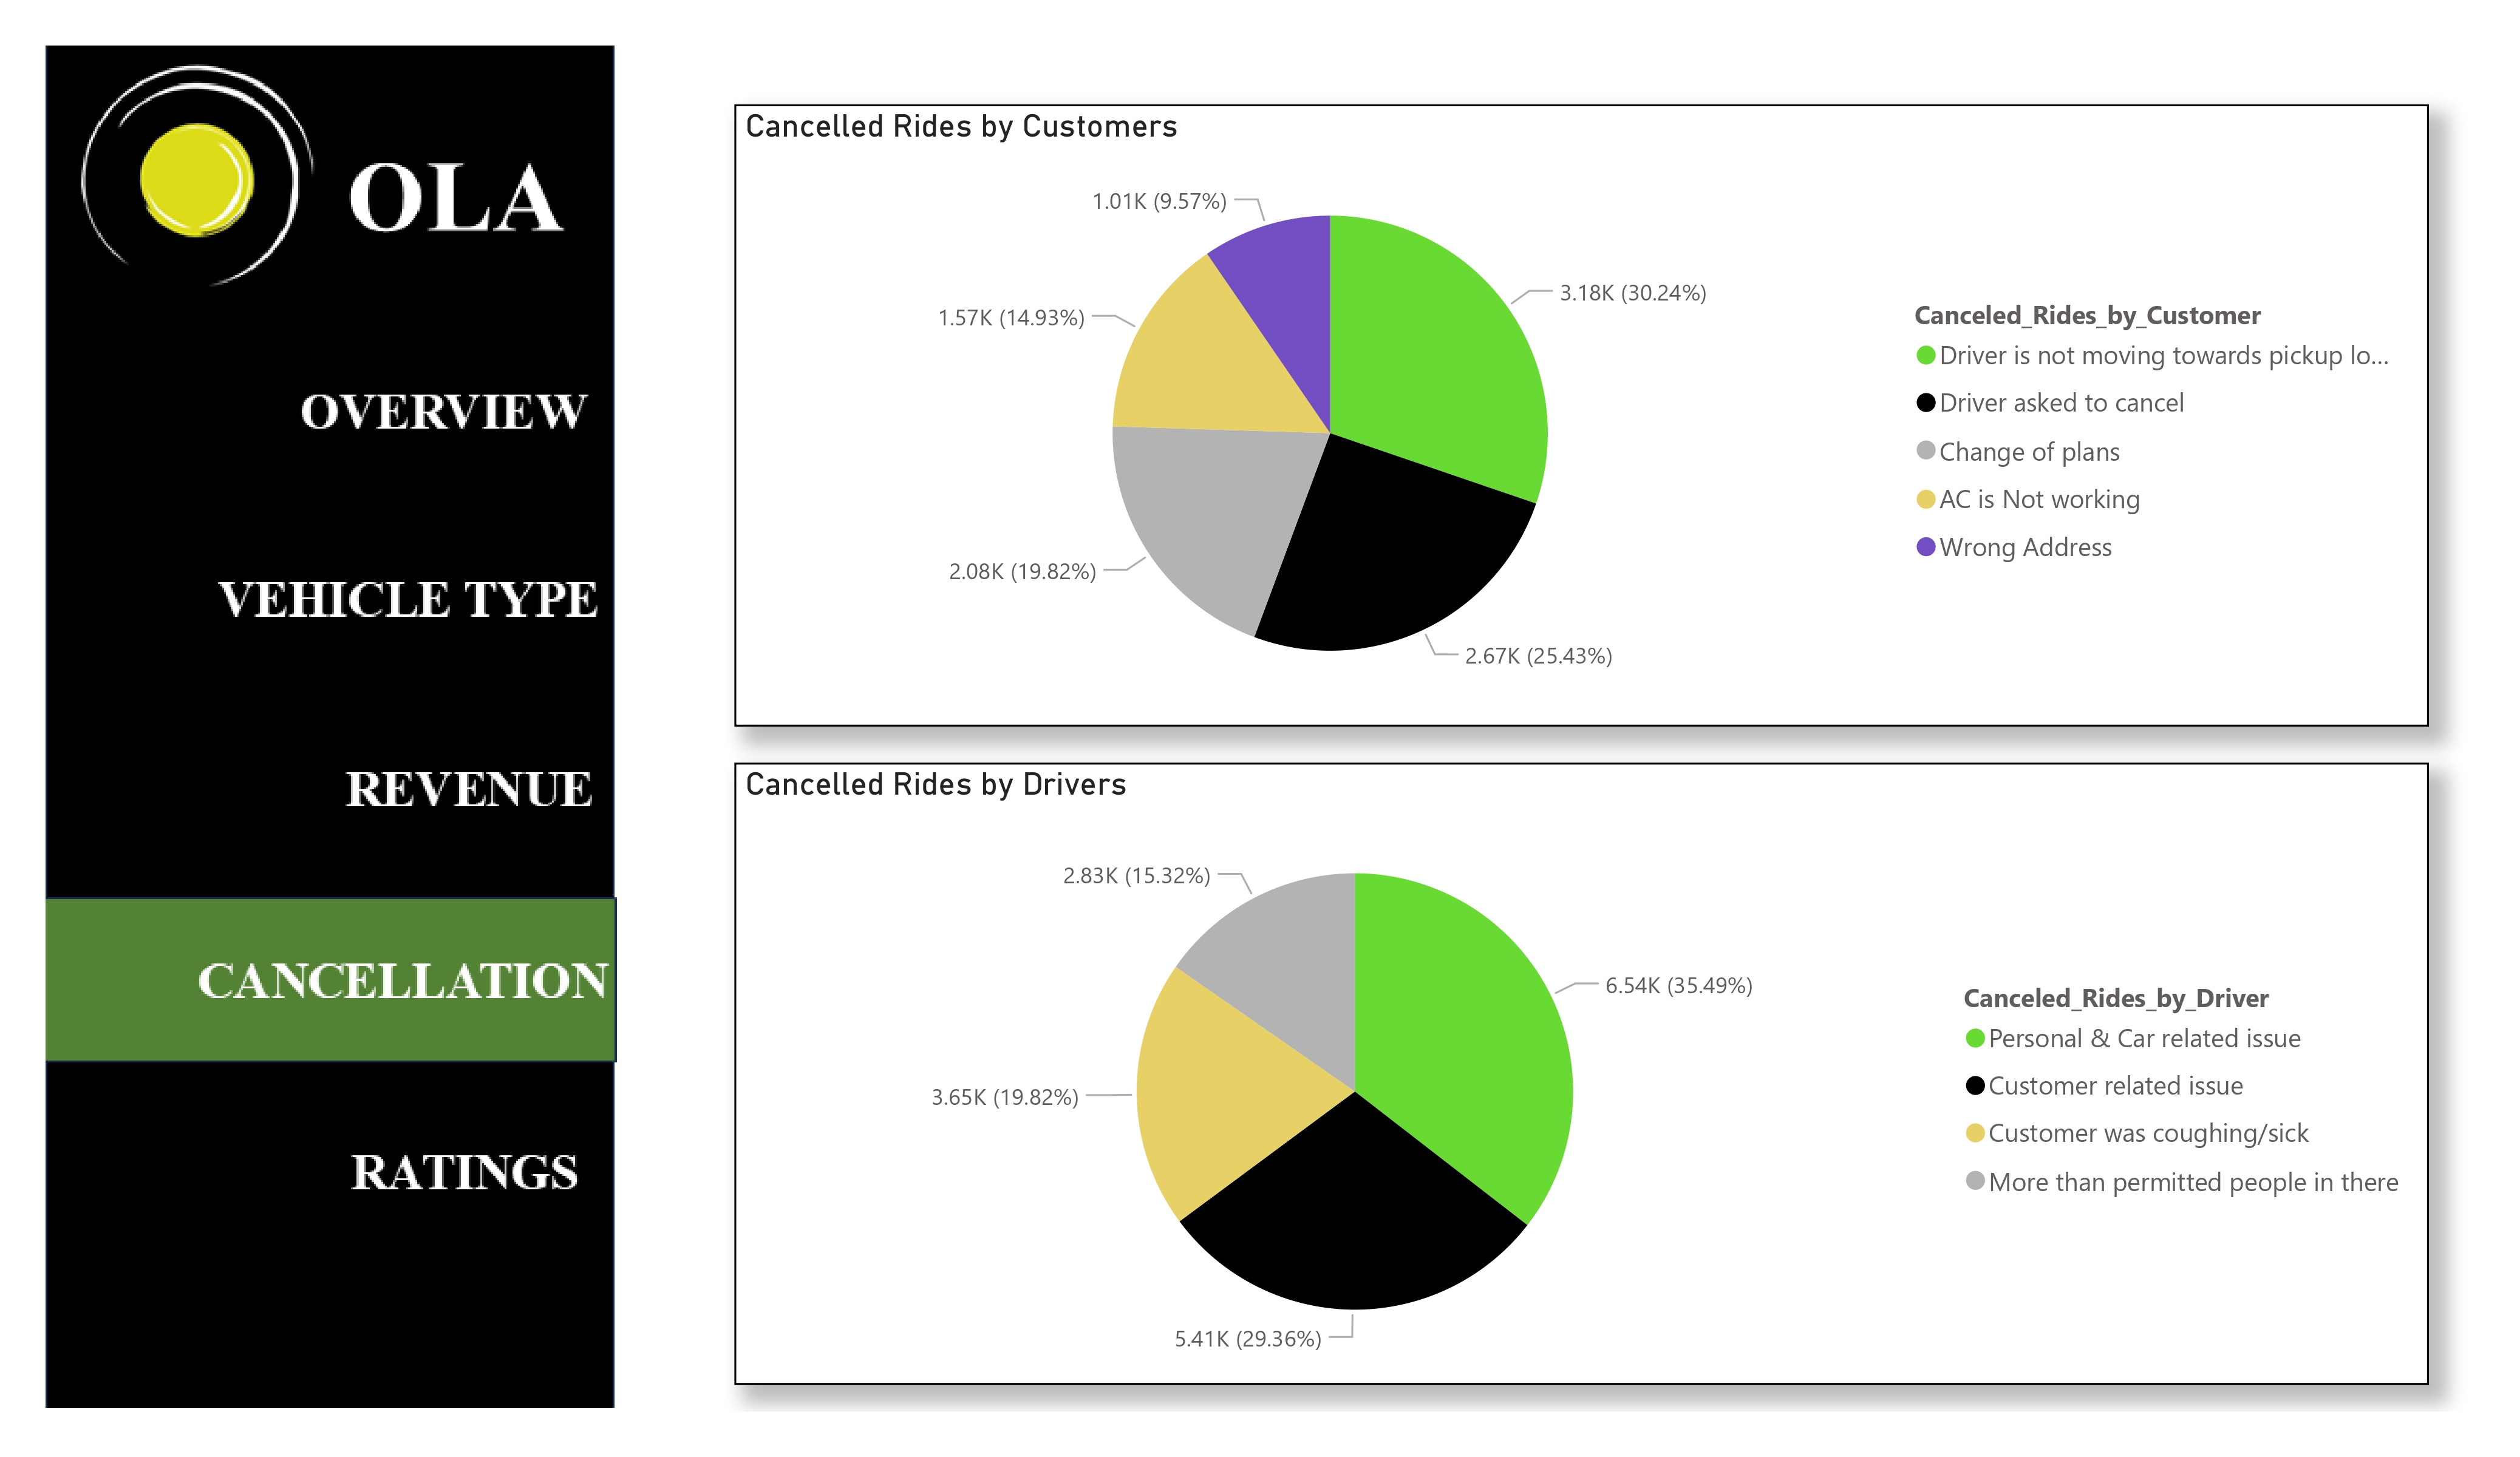

What the dashboard file says about the page in this screenshot:
{"tool":"powerbi","page":{"name":"CANCELLATION","canvas":[1280,720],"ordinal":3},"visuals":[{"type":"actionButton","box":[0,242.6,301.9,98.1],"z":0},{"type":"actionButton","box":[0,340.7,301.9,98.1],"z":1},{"type":"actionButton","box":[1.9,537,301.9,98.1],"z":2},{"type":"actionButton","box":[0,140.7,301.9,98.1],"z":3},{"type":"pieChart","title":"Cancelled Rides by Drivers","fields":{"Category":["July.Canceled_Rides_by_Driver"],"Y":["CountNonNull(July.Canceled_Rides_by_Driver)"]},"box":[363,377.8,892.6,327.8],"z":5},{"type":"pieChart","title":"Cancelled Rides by Customers","fields":{"Category":["July.Canceled_Rides_by_Customer"],"Y":["CountNonNull(July.Canceled_Rides_by_Customer)"]},"box":[363,31.5,892.6,327.8],"z":6}]}

Visuals, with their boxes on the page's 1280x720 design canvas (x1, y1, x2, y2). These are canvas units, not pixel positions in the 2520x1457 screenshot, which may show the page scaled, cropped or inside an application window:
actionButton: rect(0, 243, 302, 341)
actionButton: rect(0, 341, 302, 439)
actionButton: rect(2, 537, 304, 635)
actionButton: rect(0, 141, 302, 239)
"Cancelled Rides by Drivers" pieChart: rect(363, 378, 1256, 706)
"Cancelled Rides by Customers" pieChart: rect(363, 32, 1256, 359)
